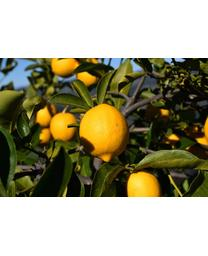lemon: (80, 106, 126, 161), (124, 172, 160, 196), (52, 113, 75, 139), (36, 106, 52, 125)
